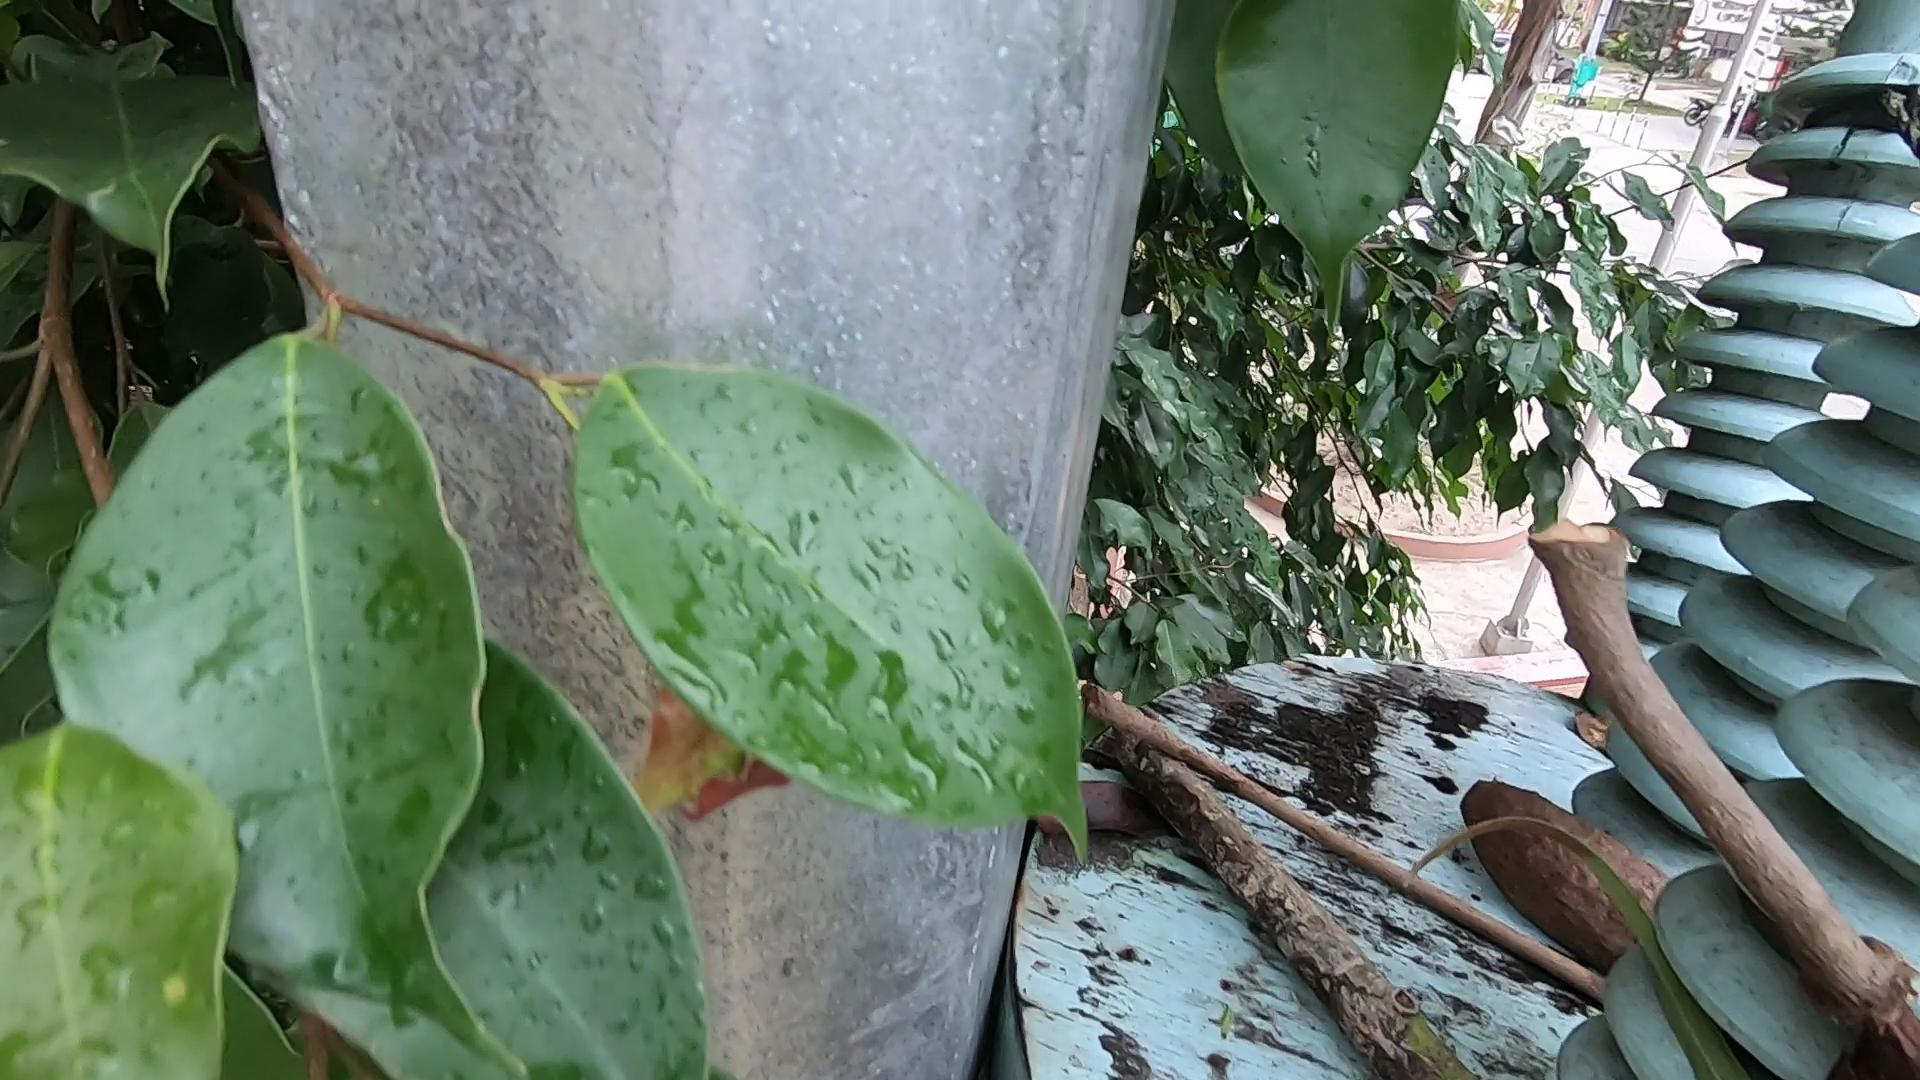branch with leaves: (1089, 719, 1378, 1080)
leaf: (1010, 761, 1179, 851), (1551, 696, 1691, 800)
mahogany fruit: (1451, 814, 1622, 1080), (1797, 920, 1920, 1073)
tree branch: (1545, 473, 1879, 1021), (1054, 696, 1640, 990)
